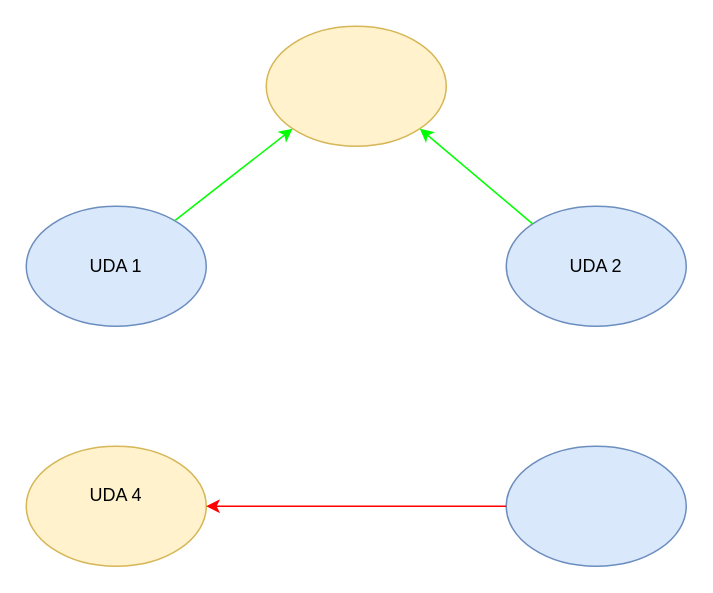
Image size: 713x593. Some labels were removed from this diagram. Here are the shapes that lost their labels. From the top down, the centre of each, then its label:
point (355, 85): UDA 3
point (595, 505): UDA 5
